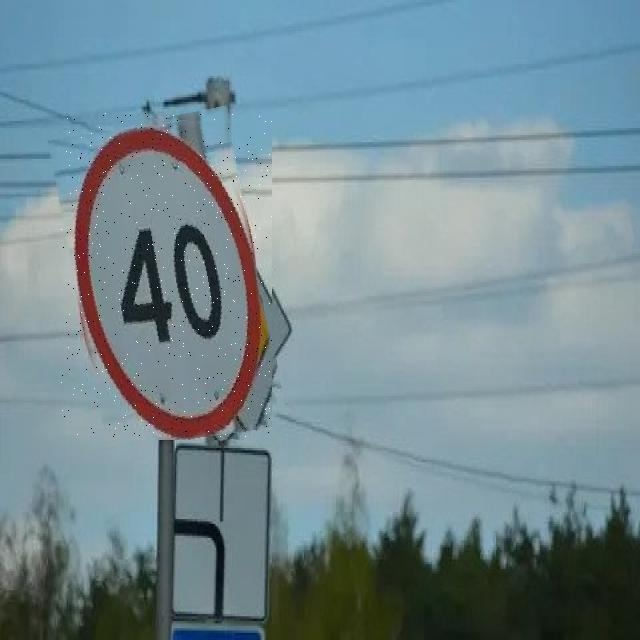speed limit 40: (61, 113, 272, 440)
